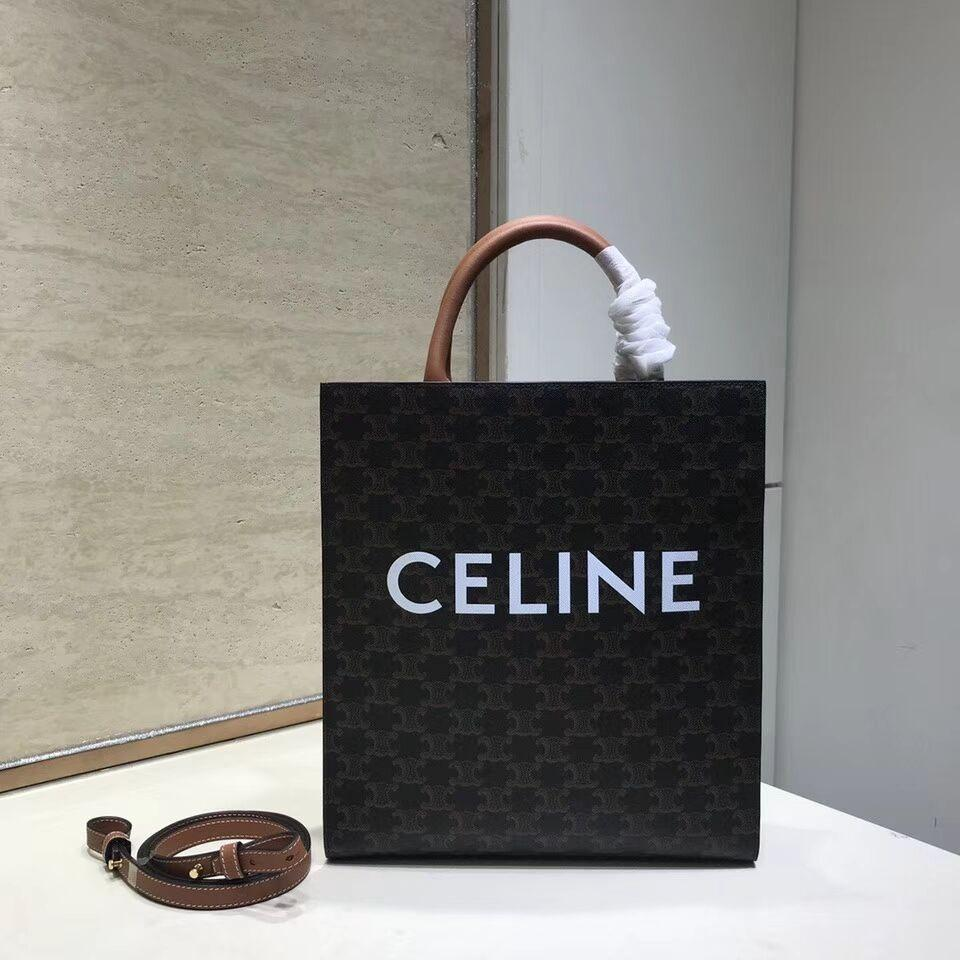CELINE: (385, 550, 703, 616)
